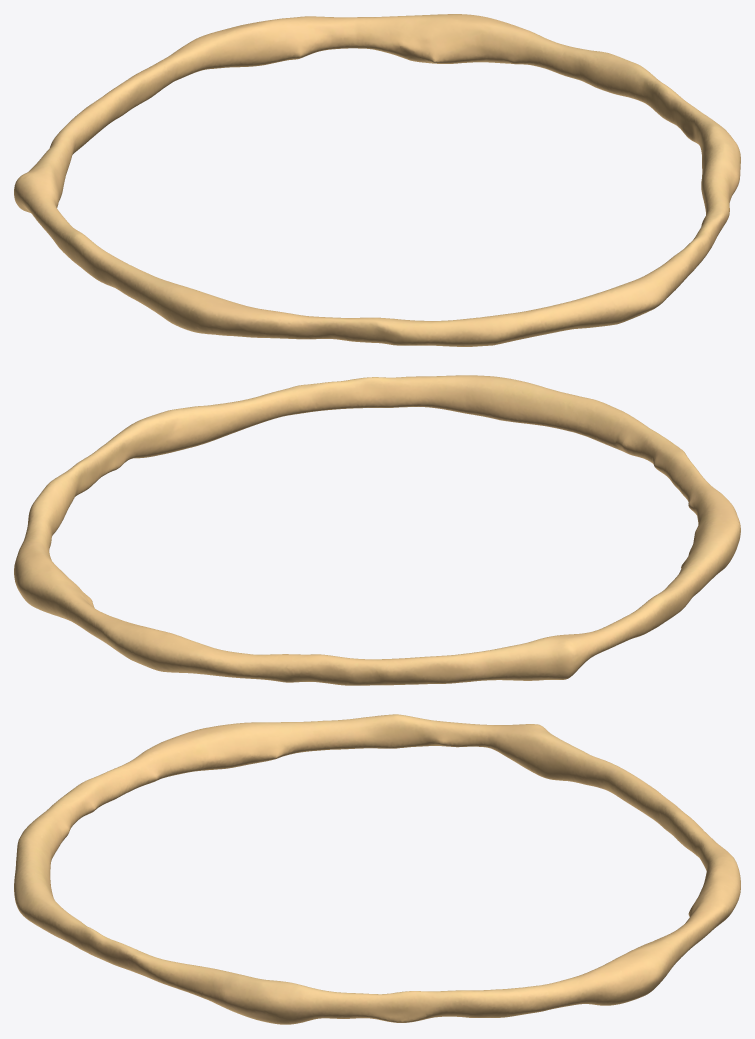
The model's file is moltencuff.glb.
3 renders of one model, top to bottom at view 1: azimuth 30°, elevation 25°; view 2: azimuth 150°, elevation 25°; view 3: azimuth 270°, elevation 25°, orthographic. The views are drawn at different scales.
Parts seen in each view (by area): view 1: geometry_0; view 2: geometry_0; view 3: geometry_0.
Boxes of the visible parts, x1,y1,x2,y2 form: geometry_0: (14,14,740,346); geometry_0: (14,375,740,685); geometry_0: (14,714,740,1024).
Size of the model in its own units: 0.9233 by 0.0643 by 0.9989.
1 material, 1 textured.
